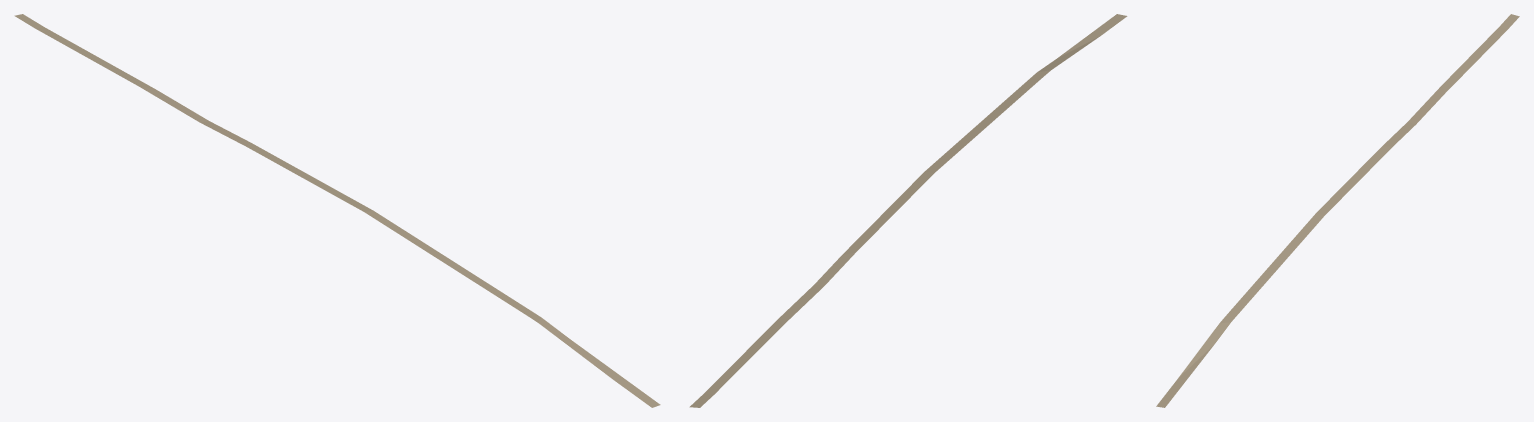
Rendered from farm_-12_-18_track.glb.
3 renders of one model, left to right at view 1: azimuth 30°, elevation 25°; view 2: azimuth 150°, elevation 25°; view 3: azimuth 330°, elevation 25°, orthographic. The views are drawn at different scales.
Visible parts, largest first — view 1: geometry_0; view 2: geometry_0; view 3: geometry_0.
Boxes of the visible parts, box(x1,y1,x2,y2) form: geometry_0: box(14, 14, 660, 407); geometry_0: box(689, 14, 1127, 407); geometry_0: box(1156, 14, 1519, 407).
Bounding box in the file's own units: 43.11 × 12.63 × 311.
